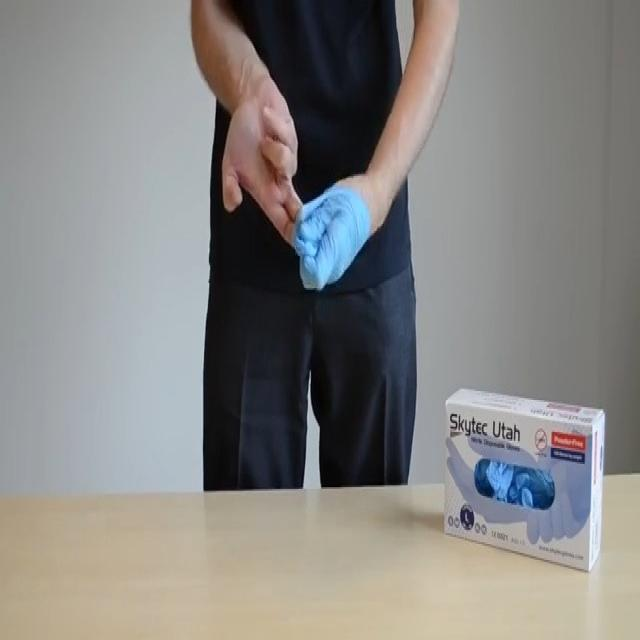Gloves: (296, 181, 373, 296)
